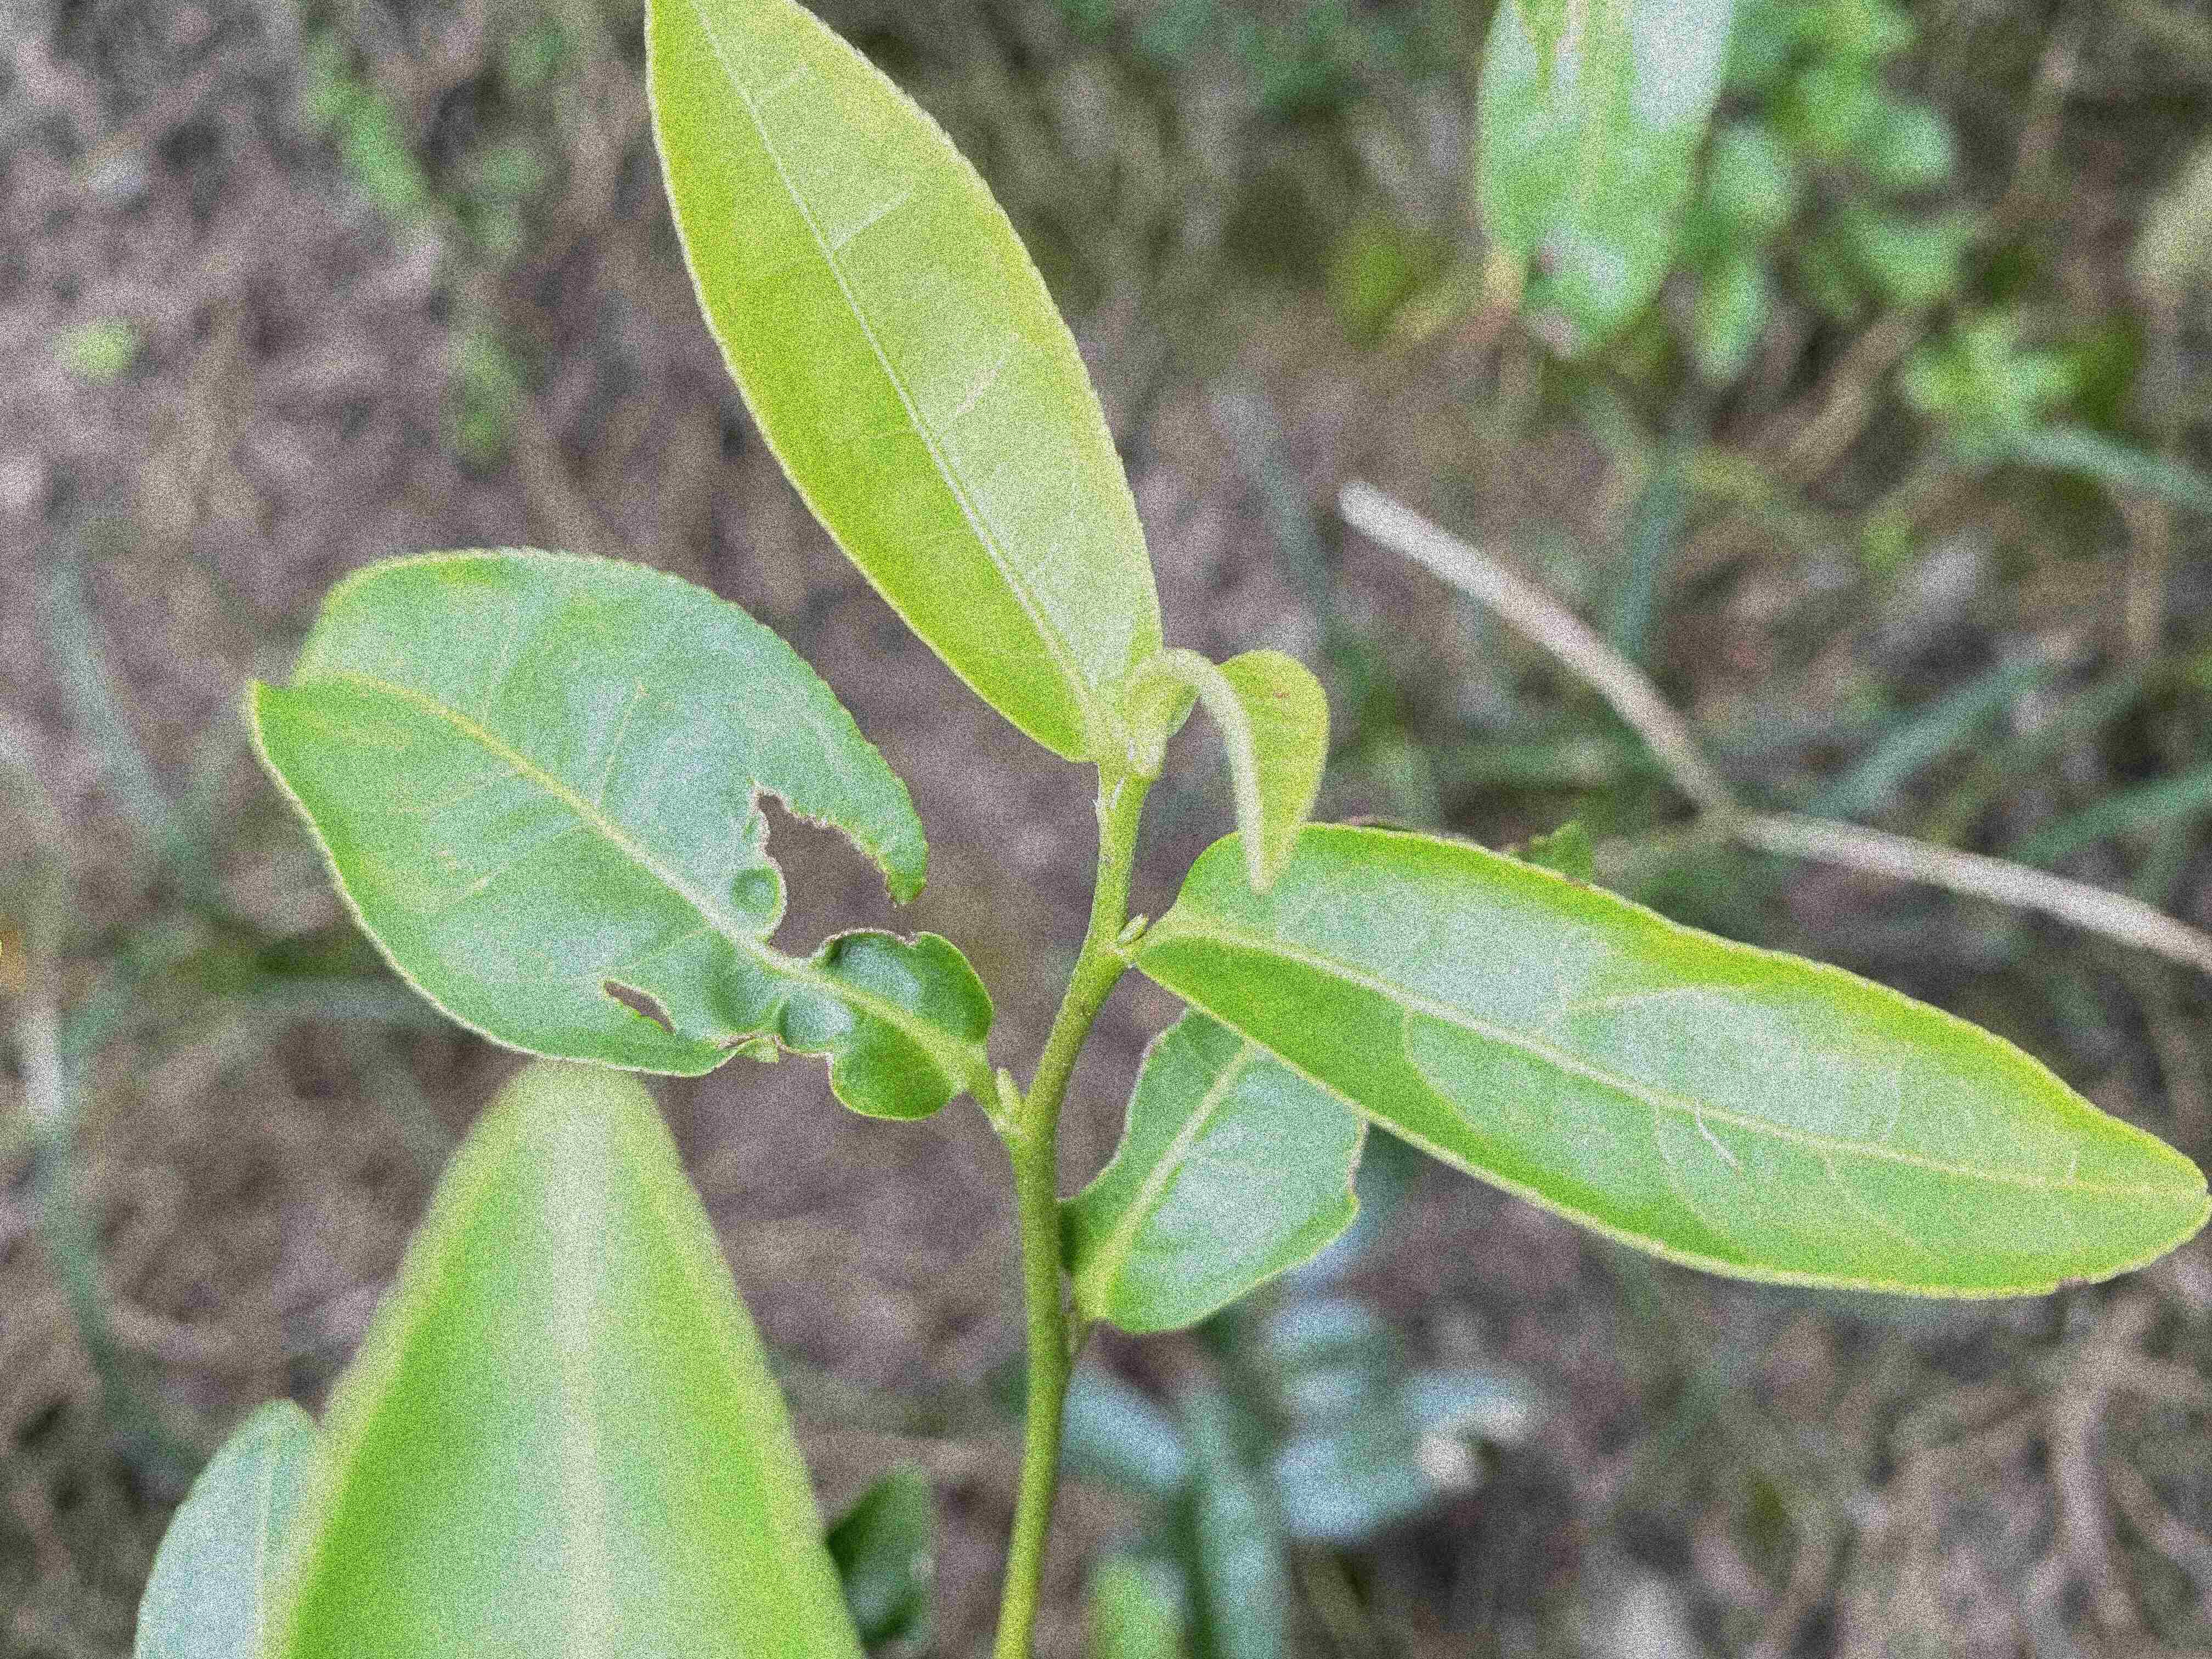chihuo_high: (247, 544, 996, 1126)
healthy: (1139, 824, 2209, 1297), (641, 3, 1158, 763)
